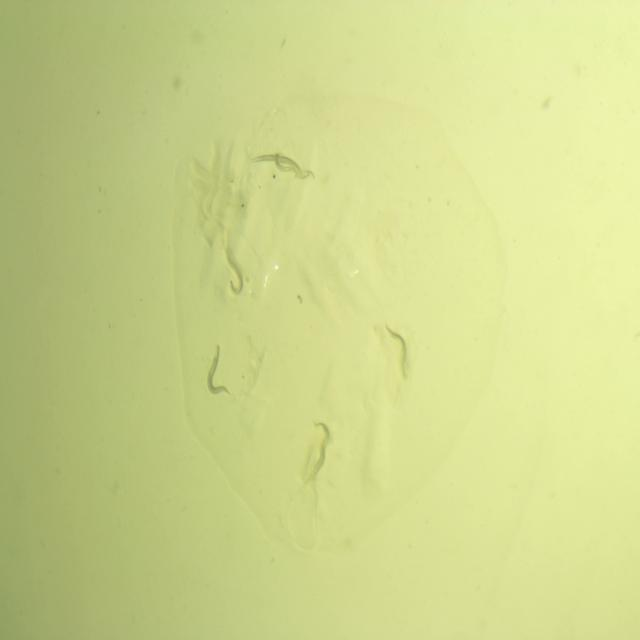worm: (383, 321, 413, 384), (250, 150, 311, 180), (202, 343, 234, 400), (307, 419, 333, 482), (273, 151, 316, 183), (223, 248, 247, 299)
